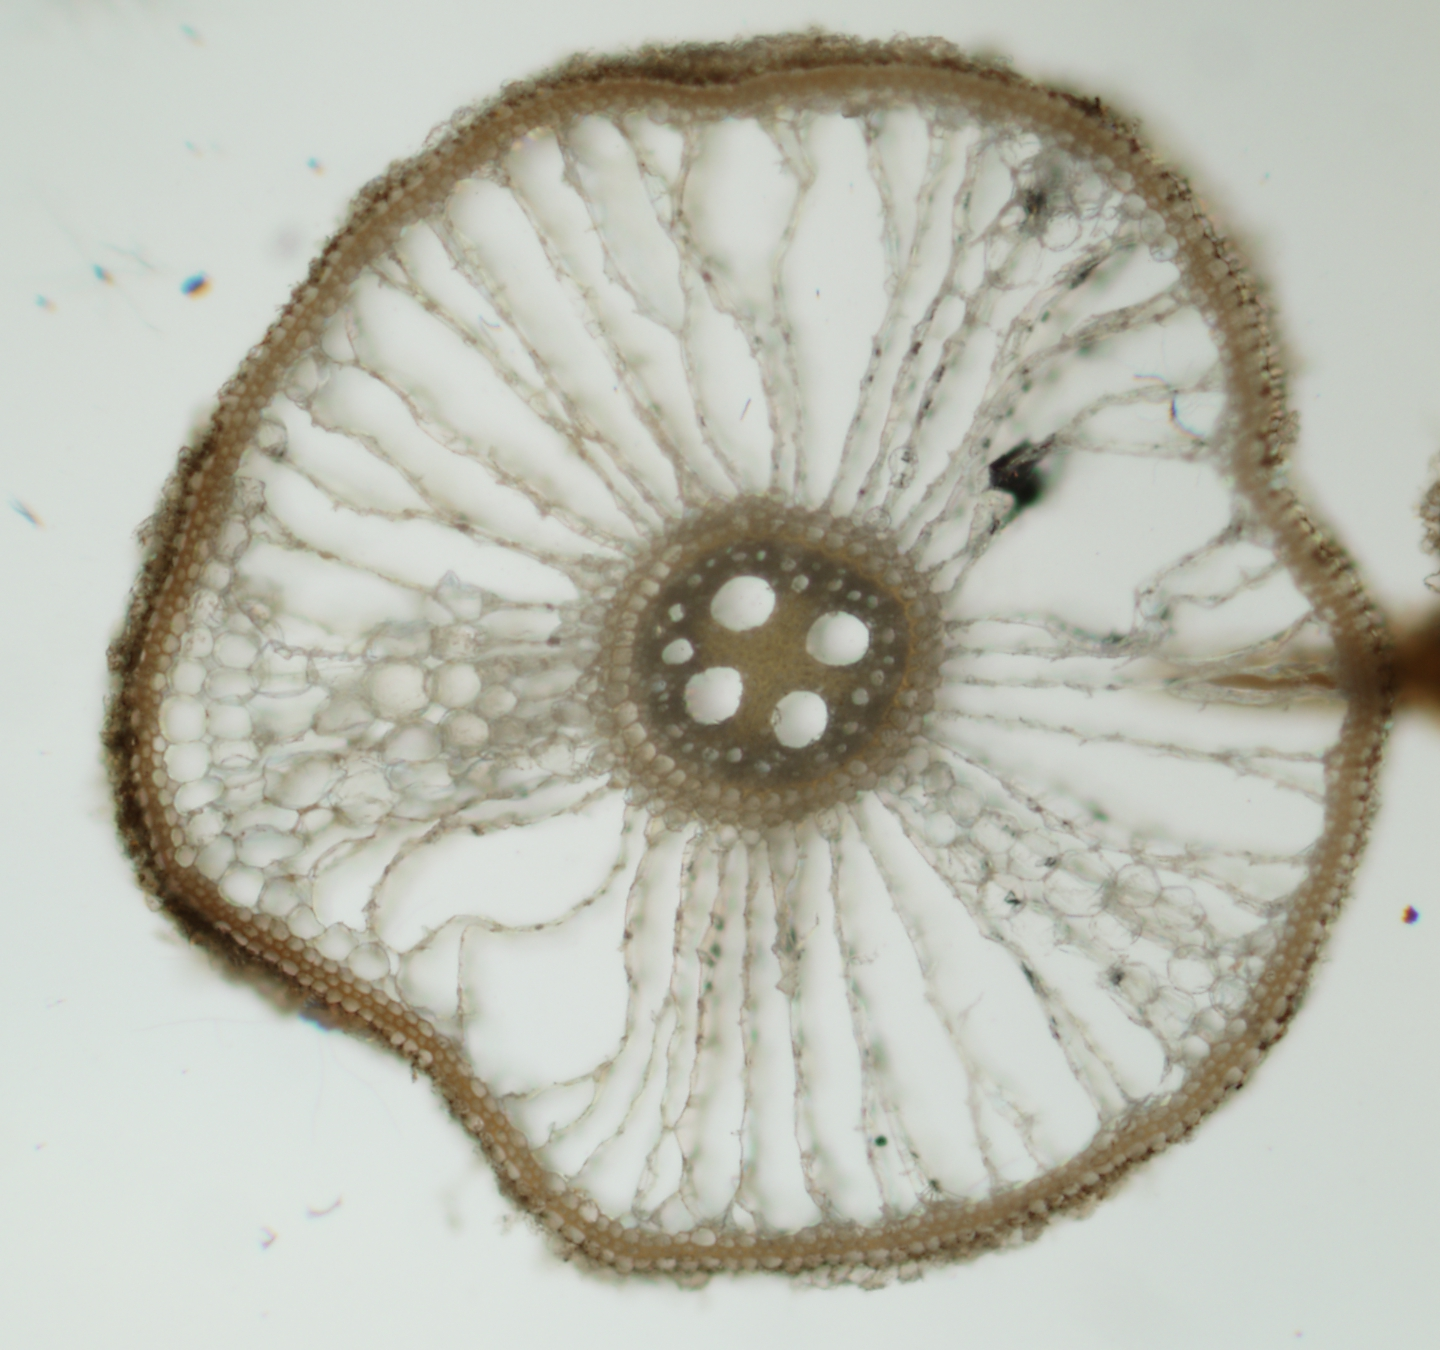lm: (710, 576, 776, 631), (683, 666, 743, 724), (770, 689, 827, 749), (804, 612, 869, 664)
